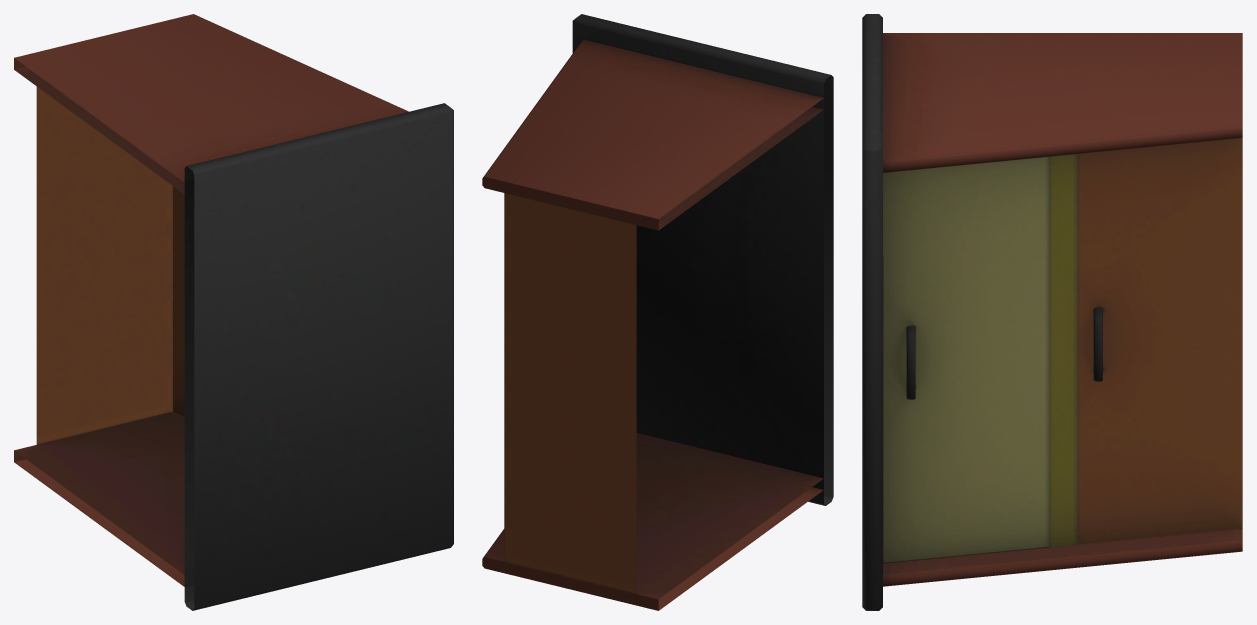
File: nt_bedside_drawer_LOD0.obj
3 views of the same model, side by side, from view 1: azimuth 30°, elevation 25°; view 2: azimuth 150°, elevation 25°; view 3: azimuth 270°, elevation 25° (orthographic). The views are drawn at different scales.
Visible parts, largest first — view 1: mtl_nt_bedside_drawer; view 2: mtl_nt_bedside_drawer; view 3: mtl_nt_bedside_drawer.
Part boxes in pixels (box(x1,y1,x2,y2)): mtl_nt_bedside_drawer: box(14, 14, 453, 610); mtl_nt_bedside_drawer: box(482, 14, 833, 610); mtl_nt_bedside_drawer: box(862, 14, 1242, 610).
Bounding box in the file's own units: 58.42 × 94.06 × 69.85.
